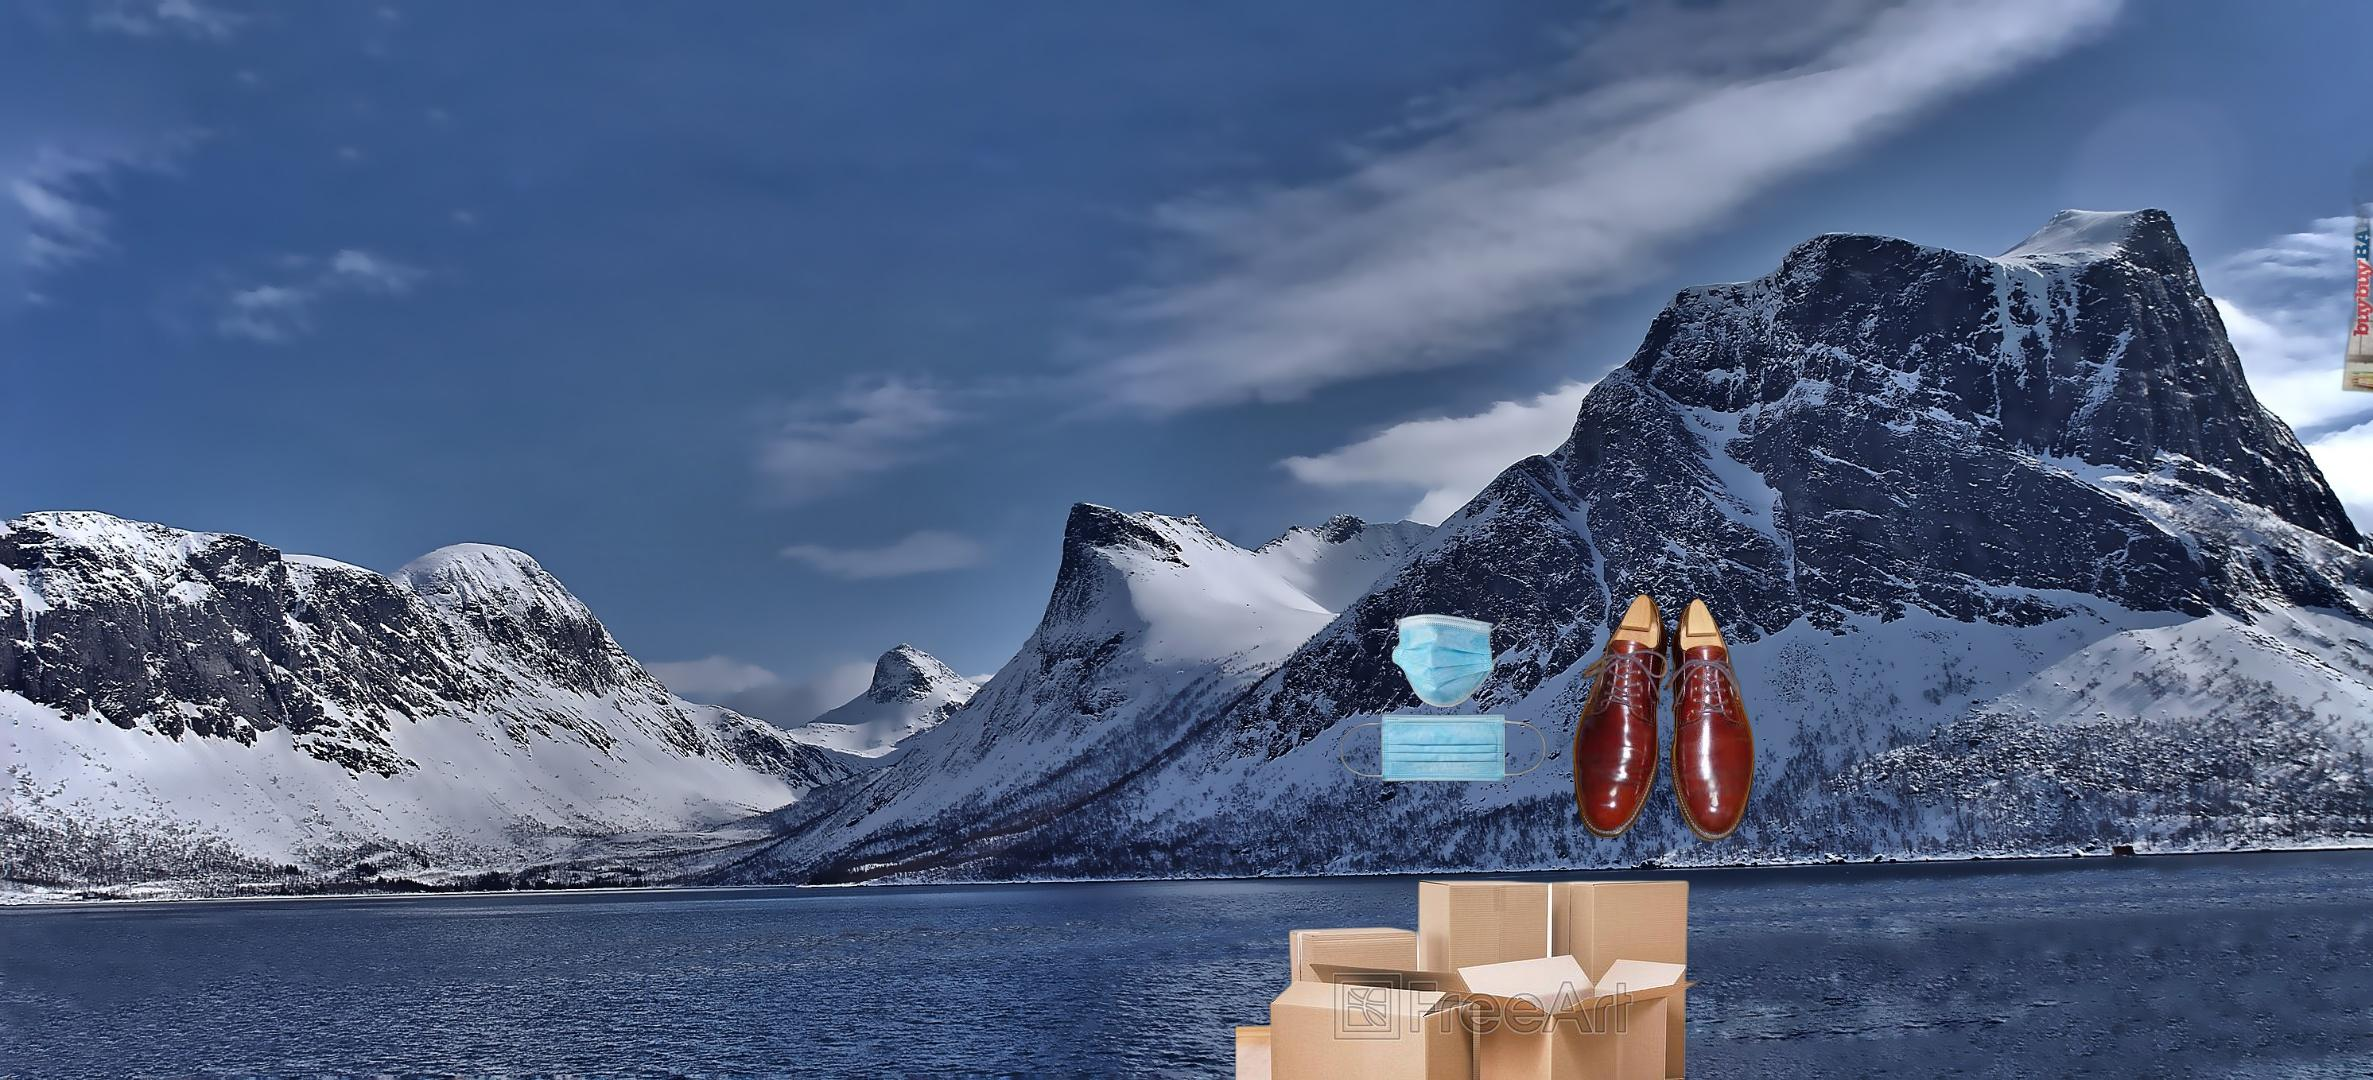paper: (2337, 73, 2373, 428)
shoes: (1569, 590, 1757, 844)
trash: (1338, 611, 1550, 785)
trashbox-cardboard: (1229, 876, 1731, 1080)
